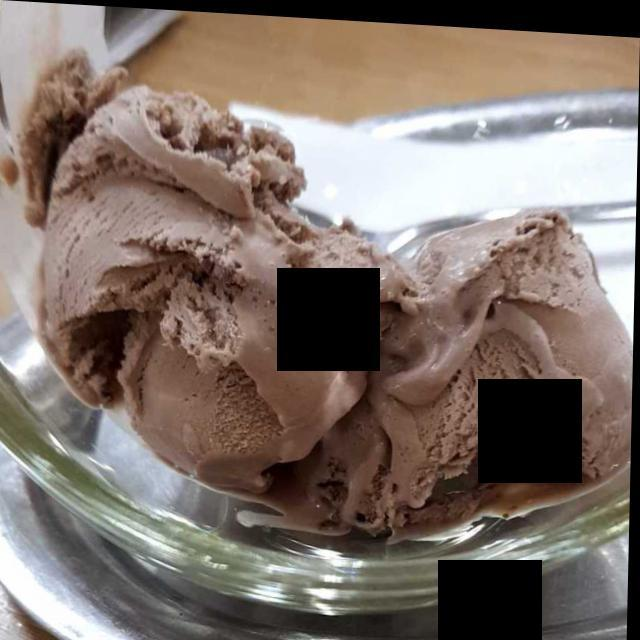ice-cream: (30, 68, 628, 528)
